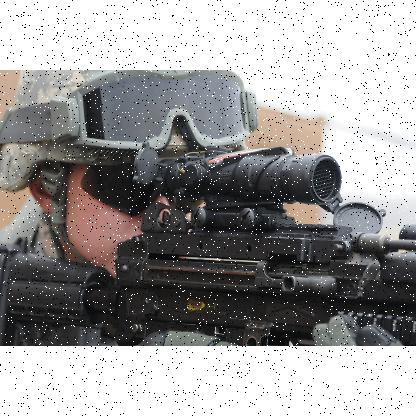gun: (0, 140, 415, 345)
